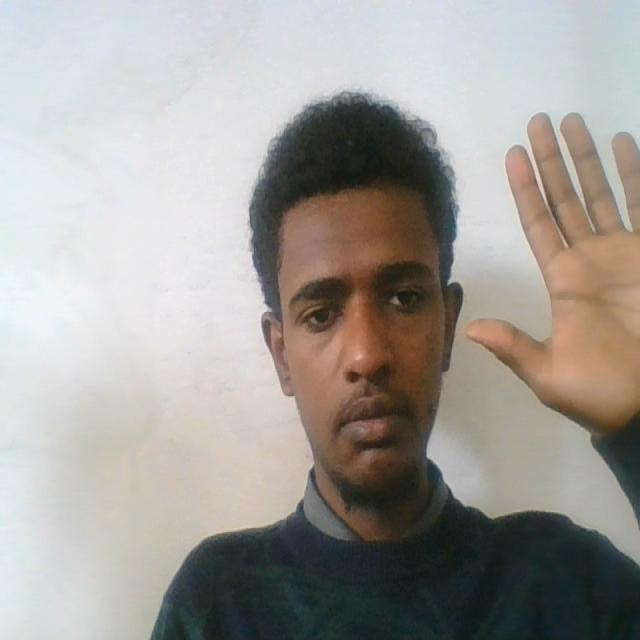hello: (462, 110, 640, 451)
